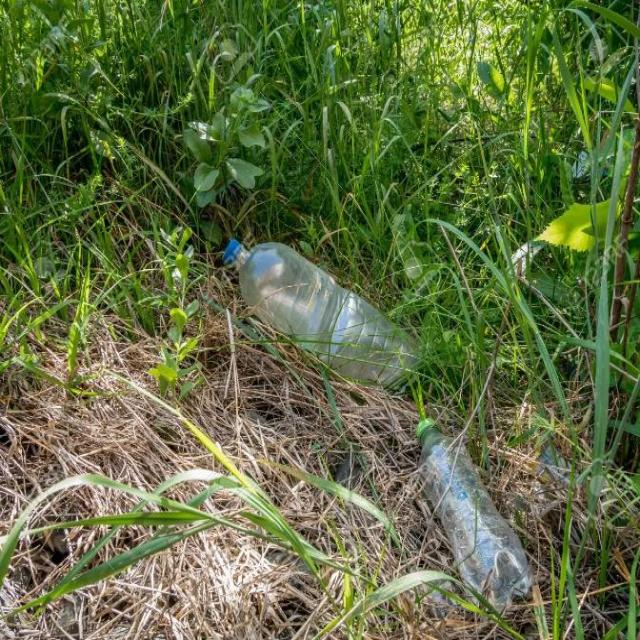bottle: (213, 221, 438, 400), (404, 407, 547, 628)
